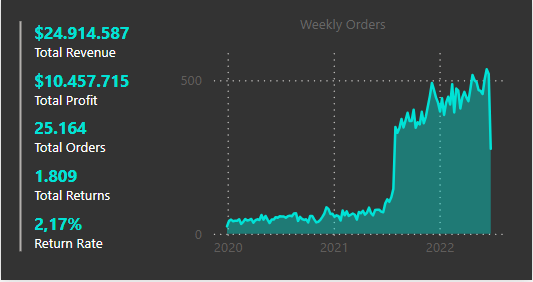

This screenshot's page, from the dashboard's own definition file:
{"tool":"powerbi","page":{"name":"Category Tooltip","canvas":[425,225],"ordinal":4},"visuals":[{"type":"multiRowCard","fields":{"Values":["Measure Table.Total Revenue","Measure Table.Total Profit","Measure Table.Total Orders","Measure Table.Total Returns","Measure Table.Return Rate"]},"box":[10,13,151,203],"z":0},{"type":"areaChart","title":"Weekly Orders","fields":{"Category":["Calendar Lookup.Start of Week"],"Y":["Measure Table.Total Orders"]},"box":[138,13,271,203],"z":1000}]}

Visuals, with their boxes in screenshot pixels (x1, y1, x2, y2), scaled from the page's 425x225 canvas onto the 533x282 screenshot:
multiRowCard - Measure Table.Total Revenue x Measure Table.Total Profit: (13,16,202,271)
"Weekly Orders" areaChart: (173,16,513,271)
